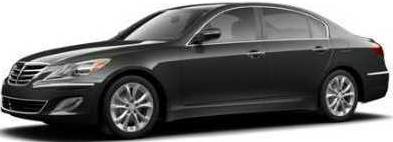backlight: (366, 38, 387, 60)
front_view: (2, 55, 111, 124)
headlight: (46, 58, 111, 81)
side_glass: (190, 5, 331, 52)
